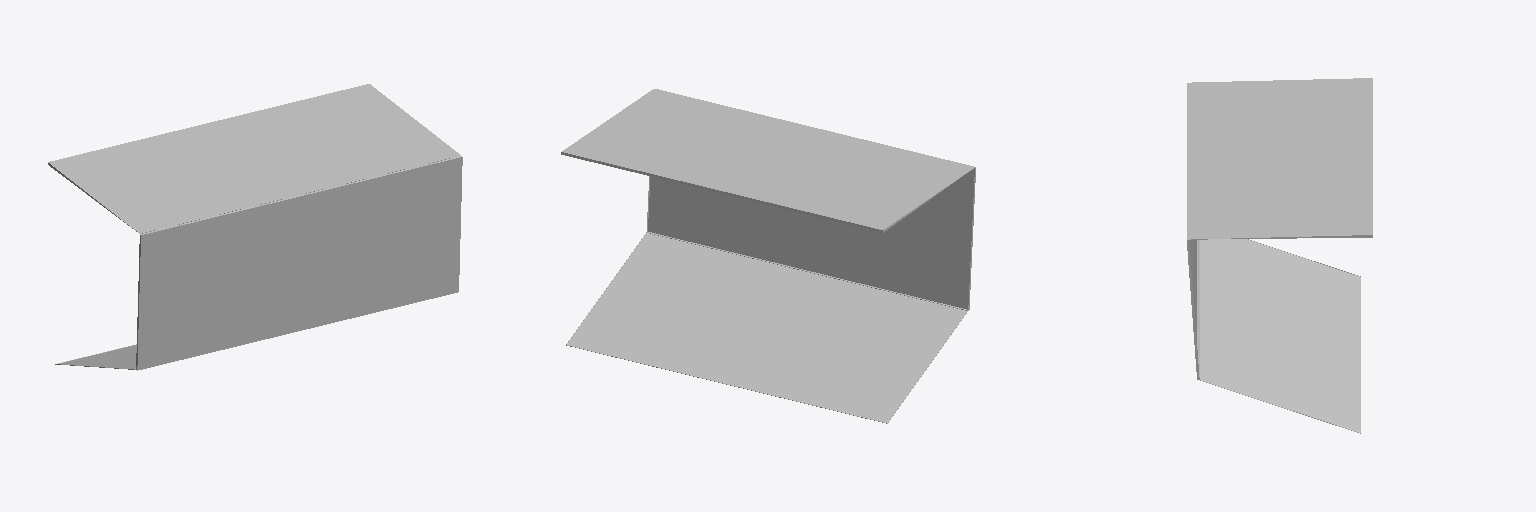
Rendered from front-body-main-plate.obj.
The picture shows the model from 3 angles: view 1: azimuth 30°, elevation 25°; view 2: azimuth 150°, elevation 25°; view 3: azimuth 270°, elevation 25°; orthographic projection.
Parts seen in each view (by area): view 1: front-body-main-plate; view 2: front-body-main-plate; view 3: front-body-main-plate.
Boxes of the visible parts, x1,y1,x2,y2 form: front-body-main-plate: [48, 84, 462, 370]; front-body-main-plate: [561, 89, 975, 423]; front-body-main-plate: [1187, 78, 1372, 433].
Bounding box in the file's own units: 2.01 × 1.18 × 1.01.